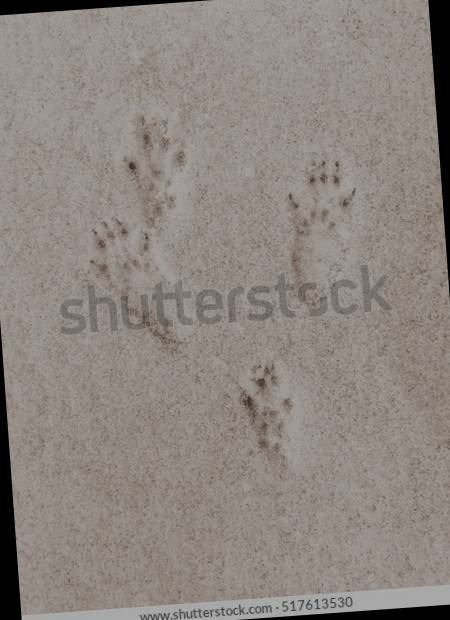ecureuil: (53, 91, 230, 380), (256, 122, 385, 325), (222, 340, 303, 482)
